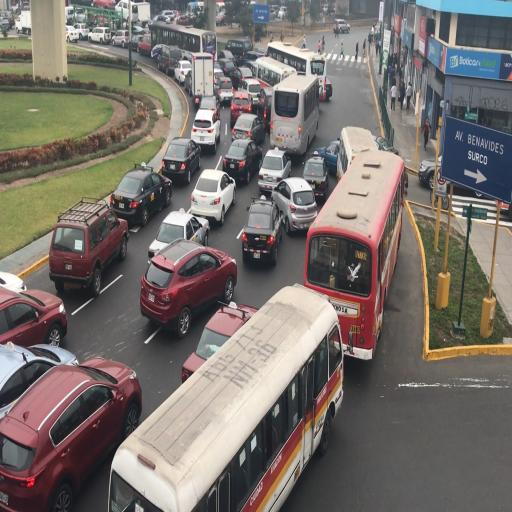auto: (0, 352, 139, 511), (140, 237, 235, 332), (0, 337, 79, 435), (49, 197, 127, 293), (181, 300, 258, 382), (1, 278, 68, 354), (420, 150, 509, 204), (110, 164, 170, 228), (146, 212, 208, 266), (241, 196, 282, 266), (190, 168, 236, 227), (270, 176, 316, 234), (161, 139, 201, 187), (224, 138, 262, 185), (258, 146, 292, 194), (190, 101, 221, 152), (300, 155, 330, 207), (231, 112, 264, 148), (236, 76, 265, 116), (418, 154, 444, 191), (156, 43, 184, 76), (230, 90, 254, 128), (224, 38, 253, 65), (193, 75, 214, 109), (217, 58, 240, 88), (258, 84, 273, 129), (0, 270, 26, 294), (214, 74, 234, 105), (174, 59, 193, 87), (214, 49, 236, 72), (372, 134, 396, 154), (234, 66, 254, 89), (87, 26, 111, 45), (184, 69, 199, 98), (242, 50, 266, 68), (130, 32, 148, 54), (110, 30, 132, 48), (72, 22, 90, 40), (70, 6, 88, 24), (150, 43, 166, 63), (0, 9, 15, 29), (65, 24, 80, 43), (213, 61, 224, 86), (157, 9, 178, 22), (332, 19, 350, 33), (174, 14, 194, 26), (269, 5, 279, 19), (278, 6, 287, 19), (321, 4, 329, 14)
bus: (110, 287, 332, 506), (310, 139, 402, 353), (271, 70, 319, 159), (274, 40, 330, 103), (338, 124, 379, 186), (252, 50, 294, 96), (16, 10, 31, 34), (216, 1, 226, 25)
camion: (127, 2, 151, 28)
